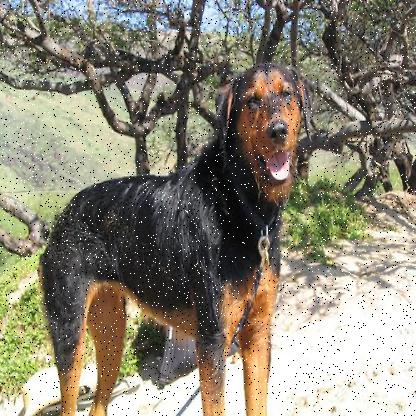dog: (48, 57, 318, 398)
